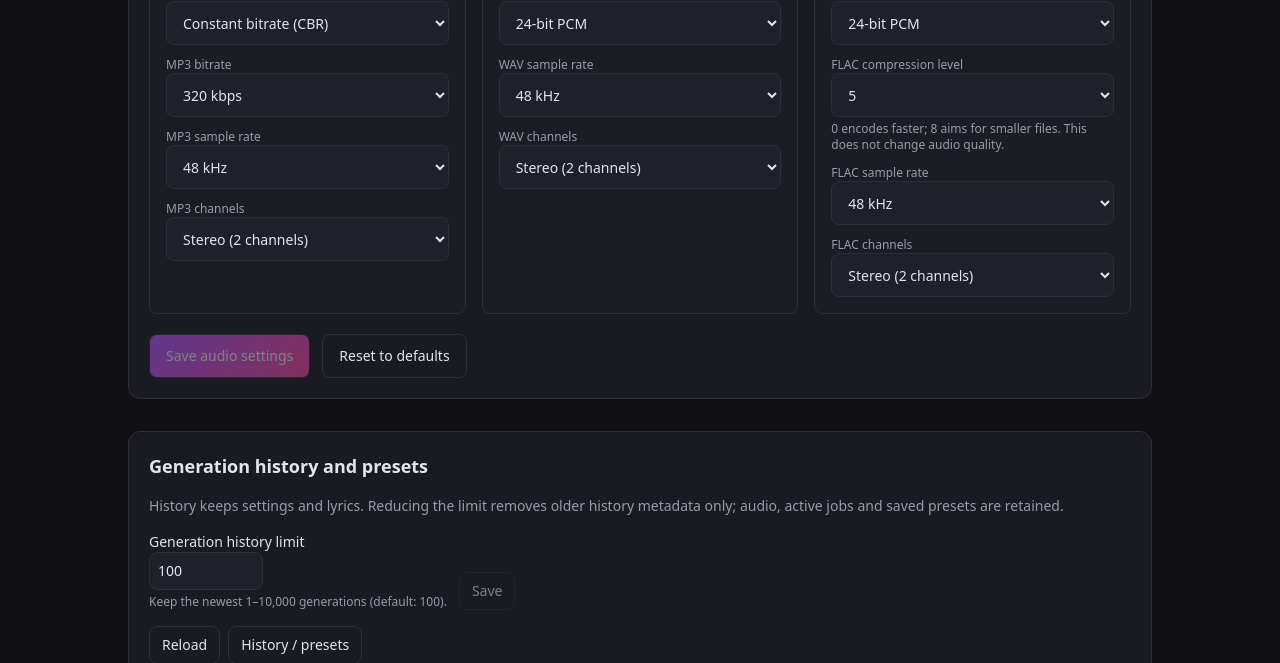
Scenario: does not ask users to save when the saved settings already equal the defaults
This screenshot has width=1280, height=663.
(page scrolled)
Click the button "Reset to defaults". click: (394, 356)
box: [322,334,467,378]
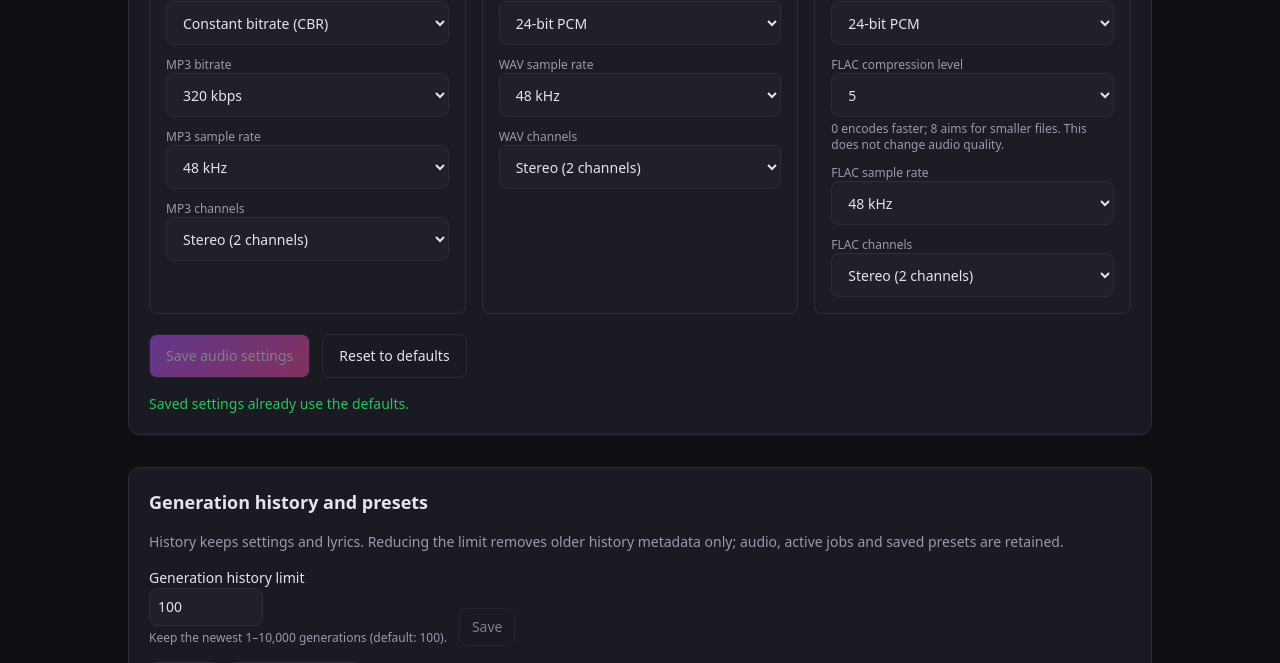
Expected: the button "Save audio settings" is disabled, [149,334,310,378]
Result: the text "Saved settings already use the defaults" is shown at [149,394,409,413]
